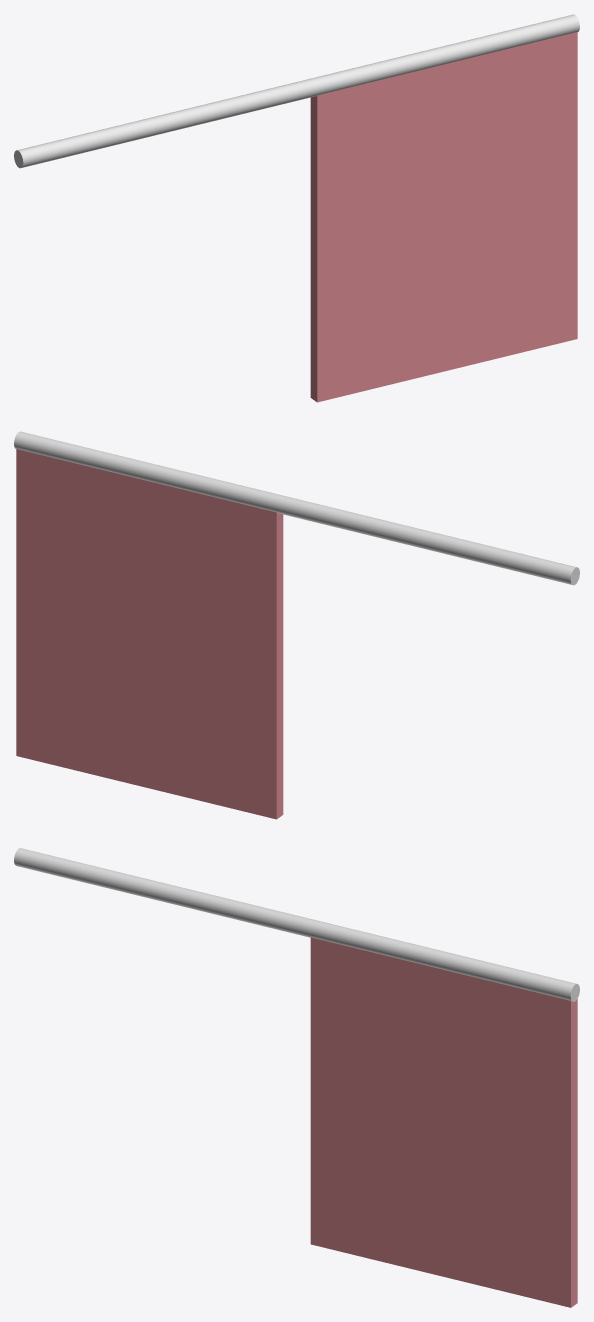
File: FlagRed.fbx
3 renders of one model, top to bottom at view 1: azimuth 30°, elevation 25°; view 2: azimuth 150°, elevation 25°; view 3: azimuth 330°, elevation 25°, orthographic.
Parts seen in each view (by area): view 1: pasted__pCube1; view 2: pasted__pCube1; view 3: pasted__pCube1.
Boxes of the visible parts, x1,y1,x2,y2 form: pasted__pCube1: [14, 14, 579, 402]; pasted__pCube1: [14, 431, 579, 819]; pasted__pCube1: [14, 848, 579, 1307].
Bounding box in the file's own units: 69.33 × 38.24 × 2.
